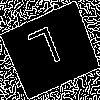L: (26, 25, 67, 78)
